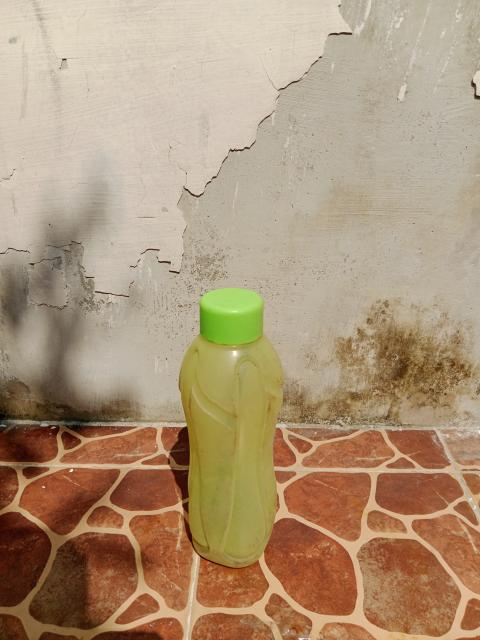botol: (147, 284, 317, 580)
